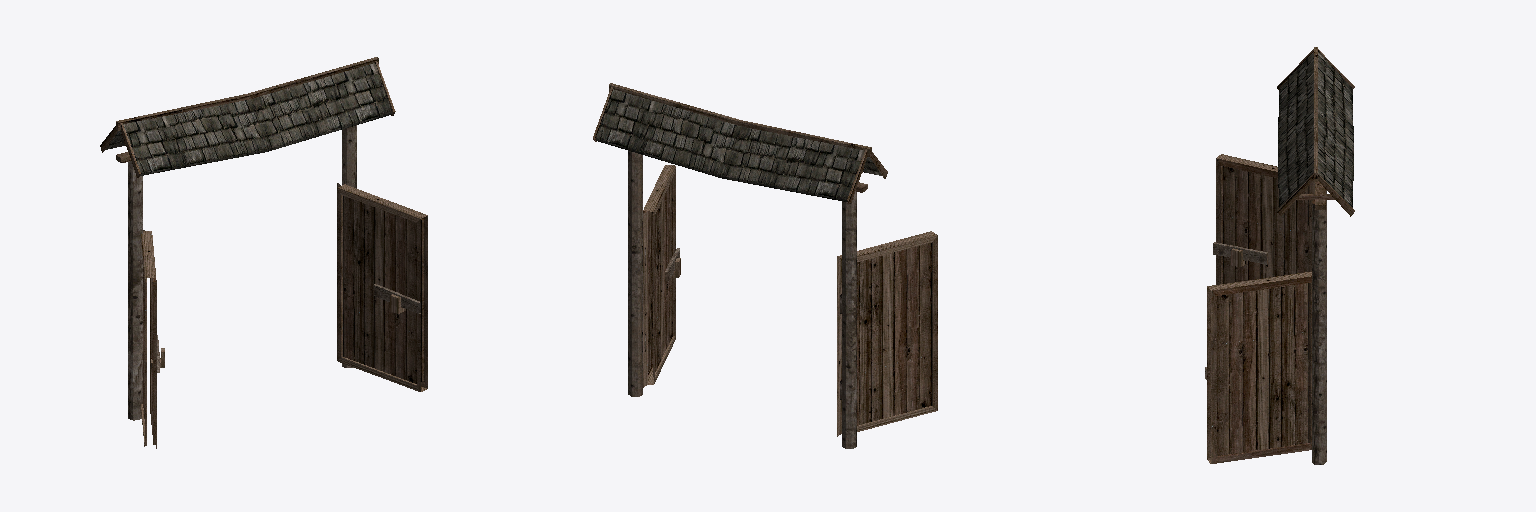
3 renders of one model, left to right at view 1: azimuth 30°, elevation 25°; view 2: azimuth 150°, elevation 25°; view 3: azimuth 270°, elevation 25°, orthographic.
Visible parts, largest first — view 1: polySurface9; view 2: polySurface9; view 3: polySurface9.
Boxes of the visible parts, box(x1,y1,x2,y2) form: polySurface9: box(100, 57, 427, 448); polySurface9: box(593, 83, 937, 448); polySurface9: box(1205, 47, 1354, 464).
Bounding box in the file's own units: 17.71 × 18.24 × 8.22.
Materials: 1 (1 with a texture image).